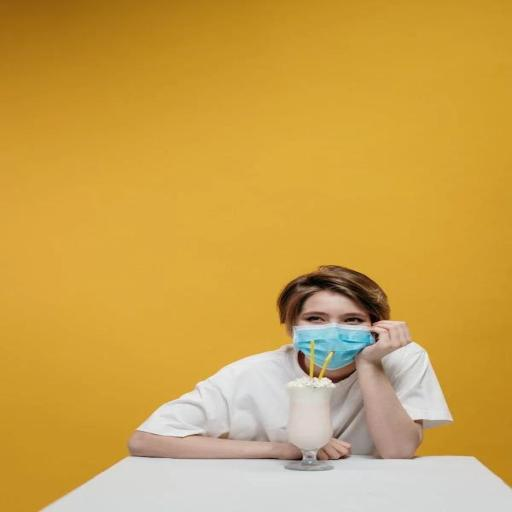mask: (266, 271, 424, 399)
